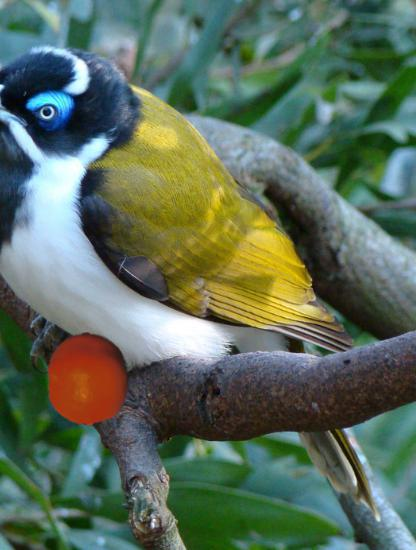Clementine: (42, 332, 136, 426)
